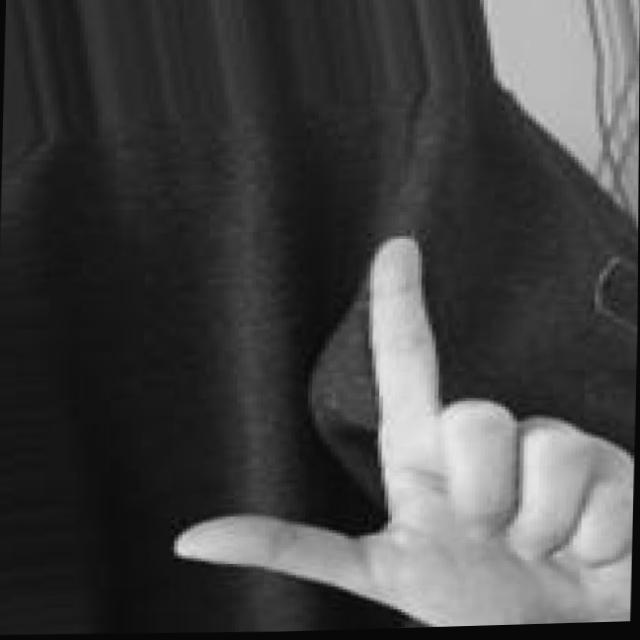L: (171, 218, 638, 635)
